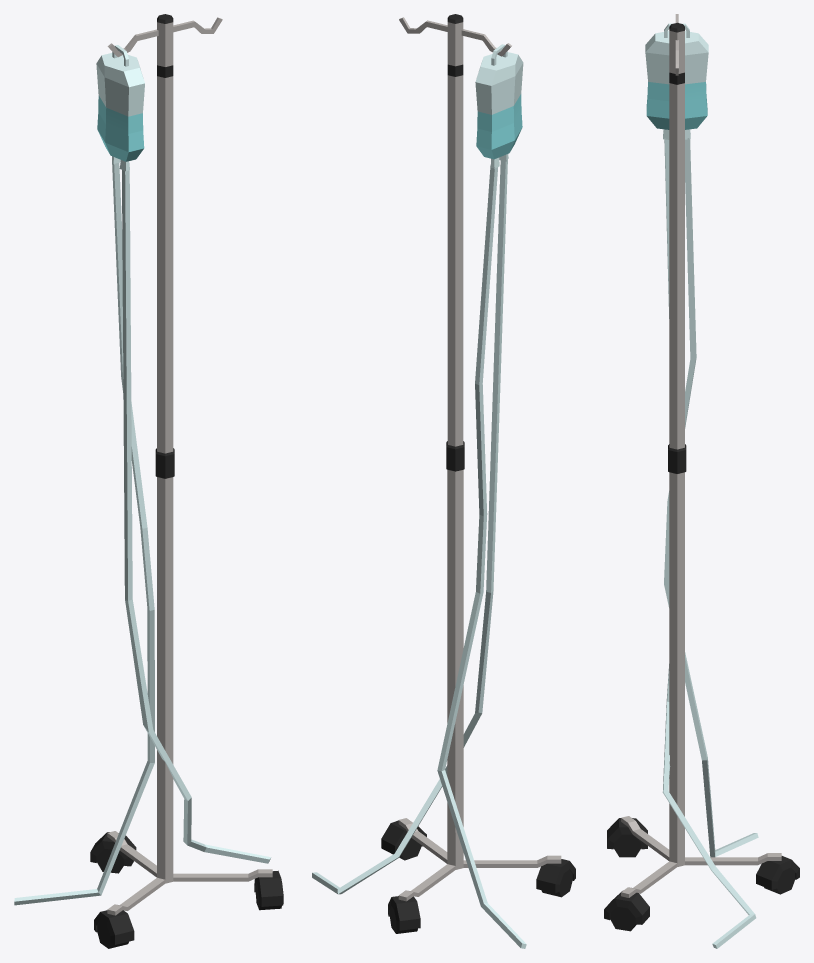
The model's file is apocalypse_iv-pole-water-bag.fbx.
3 views of the same model, side by side, from view 1: azimuth 30°, elevation 25°; view 2: azimuth 150°, elevation 25°; view 3: azimuth 270°, elevation 25° (orthographic). The views are drawn at different scales.
Parts seen in each view (by area): view 1: apocalypse_iv_pole_water_bag; view 2: apocalypse_iv_pole_water_bag; view 3: apocalypse_iv_pole_water_bag.
Boxes of the visible parts, x1=… form: apocalypse_iv_pole_water_bag: x1=14, y1=14, x2=283, y2=948; apocalypse_iv_pole_water_bag: x1=312, y1=14, x2=575, y2=948; apocalypse_iv_pole_water_bag: x1=604, y1=14, x2=799, y2=948.
Bounding box in the file's own units: 55.83 × 200 × 41.05.
